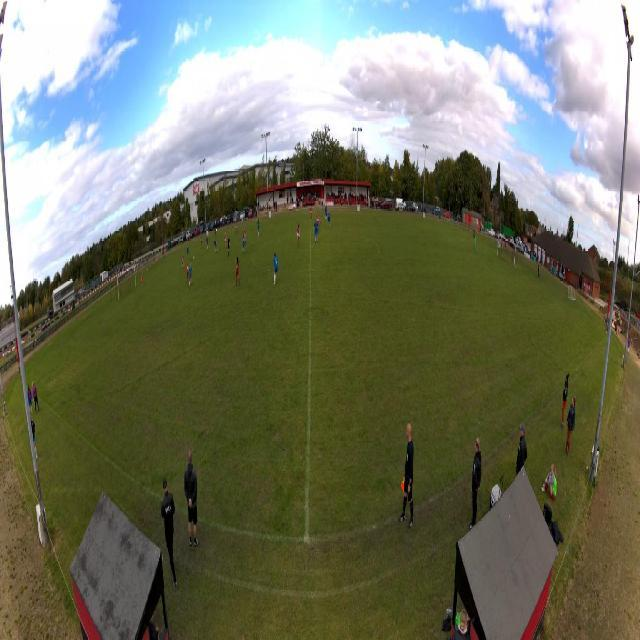ball: (193, 256, 195, 260)
player: (273, 252, 280, 286), (235, 255, 241, 289), (313, 218, 318, 244), (188, 262, 193, 288), (295, 224, 300, 248), (242, 232, 246, 256), (213, 237, 218, 255), (186, 263, 190, 284), (327, 209, 331, 229), (181, 252, 185, 272), (223, 231, 227, 250), (227, 235, 230, 259), (324, 204, 328, 220), (257, 218, 260, 239), (474, 234, 477, 254), (244, 226, 247, 245), (316, 211, 319, 229), (310, 205, 313, 223), (200, 233, 203, 250), (141, 271, 144, 288), (235, 220, 238, 237), (206, 234, 209, 250), (186, 245, 189, 261)
